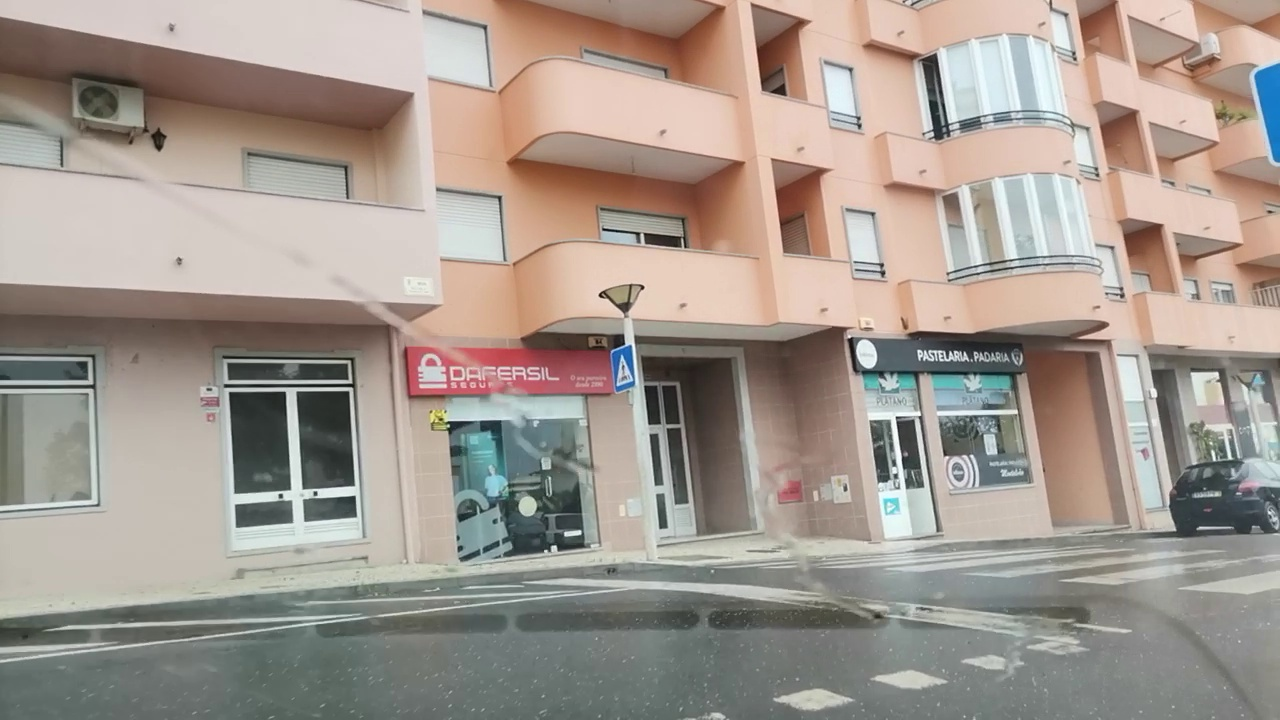Stairs: (739, 544, 1280, 597)
